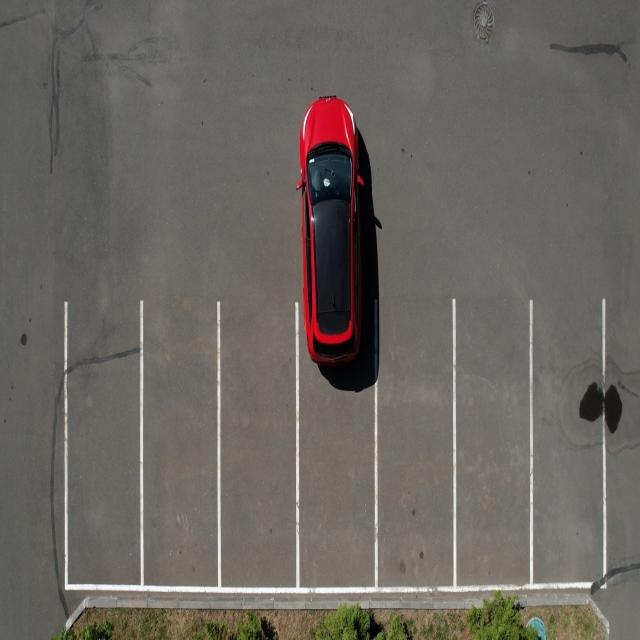space-empty: (450, 296, 535, 587), (374, 293, 458, 586), (138, 300, 222, 586), (217, 302, 300, 590), (528, 293, 608, 586), (63, 304, 144, 589), (295, 316, 378, 590), (1, 300, 68, 598)
